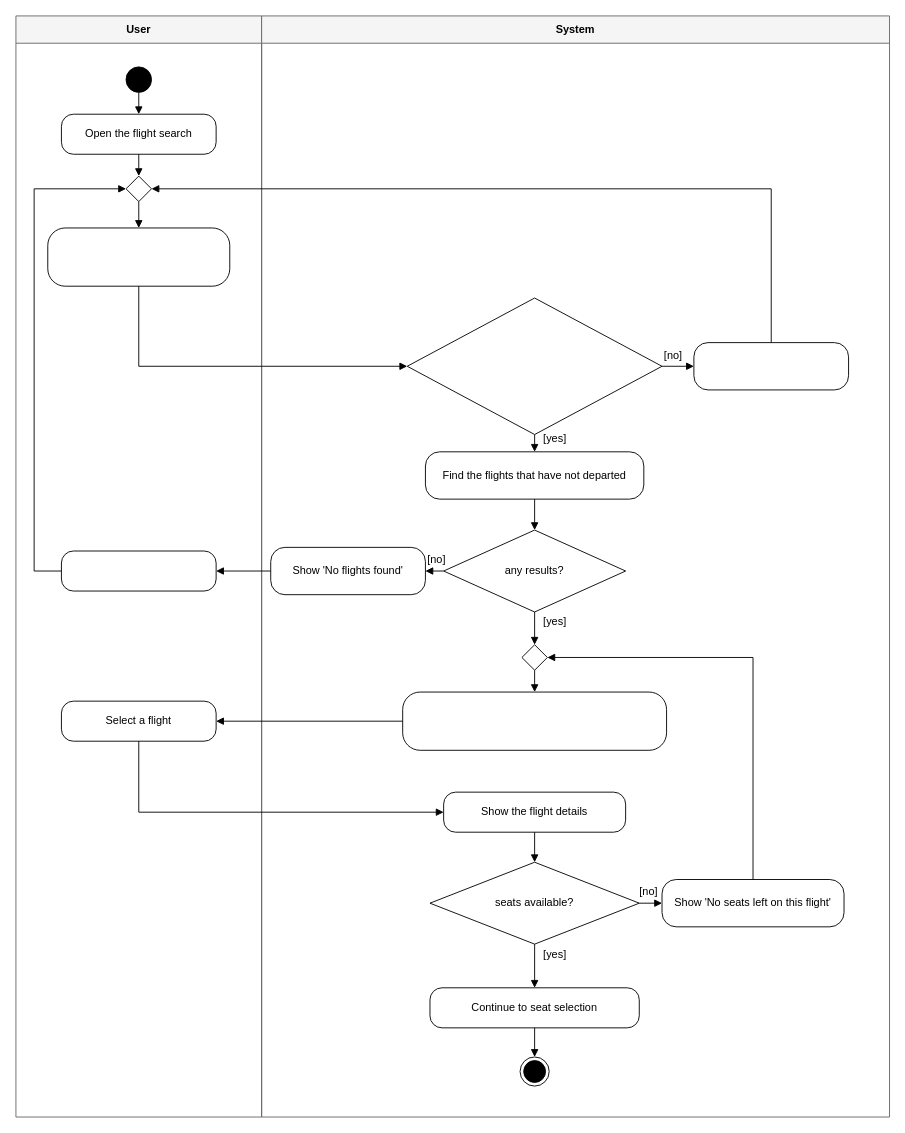
Image size: 905x1133. Some labels were removed from this diagram. Here are the shapes that lost their labels. From the top down, the centre of each, then its label:
At (138,256): "Enter origin, destination, date and optional airline".
At (534,366): "origin different from destination and date not in the past?".
At (771,366): "Show a validation message".
At (138,570): "Change the criteria".
At (534,720): "Show the flights with times, prices and seats left".
